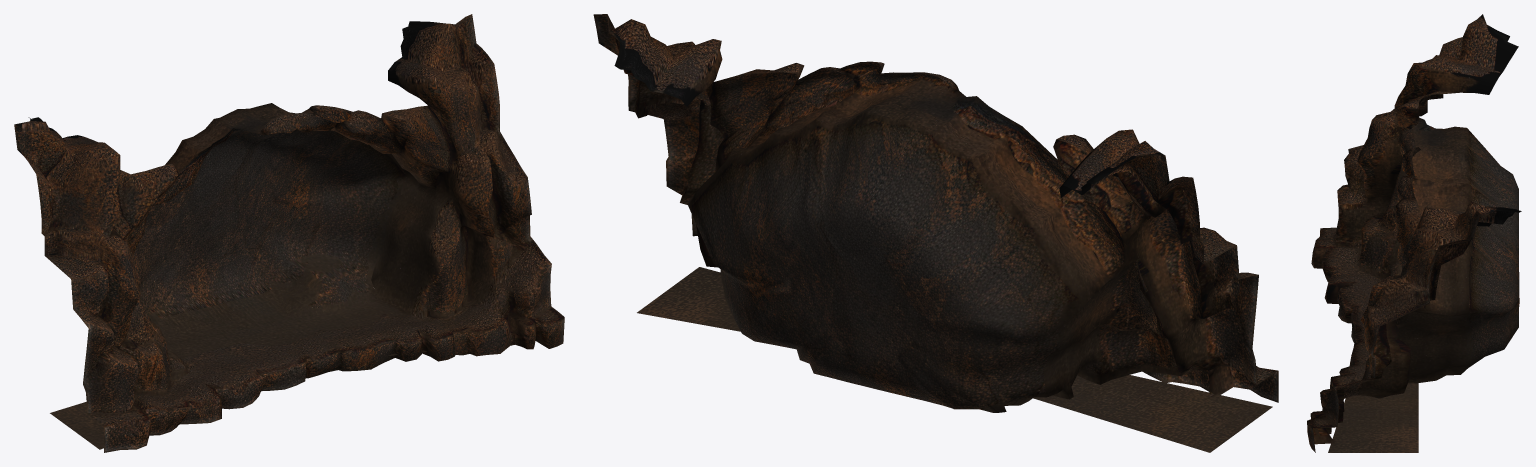
Rendered from arena1Background.fbx.fbx.
3 views of the same model, side by side, from view 1: azimuth 30°, elevation 25°; view 2: azimuth 150°, elevation 25°; view 3: azimuth 270°, elevation 25° (orthographic). The views are drawn at different scales.
Visible parts, largest first — view 1: tripo_6bf2bc94_958f_44e6_af59_18c13f763f; view 2: tripo_6bf2bc94_958f_44e6_af59_18c13f763f; view 3: tripo_6bf2bc94_958f_44e6_af59_18c13f763f.
Boxes of the visible parts, x1=… form: tripo_6bf2bc94_958f_44e6_af59_18c13f763f: x1=14, y1=14, x2=564, y2=452; tripo_6bf2bc94_958f_44e6_af59_18c13f763f: x1=593, y1=14, x2=1278, y2=452; tripo_6bf2bc94_958f_44e6_af59_18c13f763f: x1=1307, y1=14, x2=1521, y2=452.
Size of the model in its own units: 1 by 0.5515 by 0.4509.
Materials: 1 (1 with a texture image).
